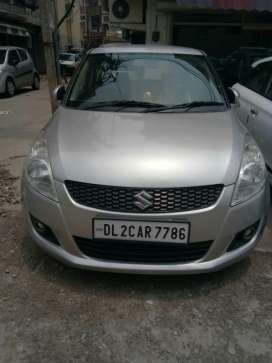nameplate: (94, 218, 191, 244)
